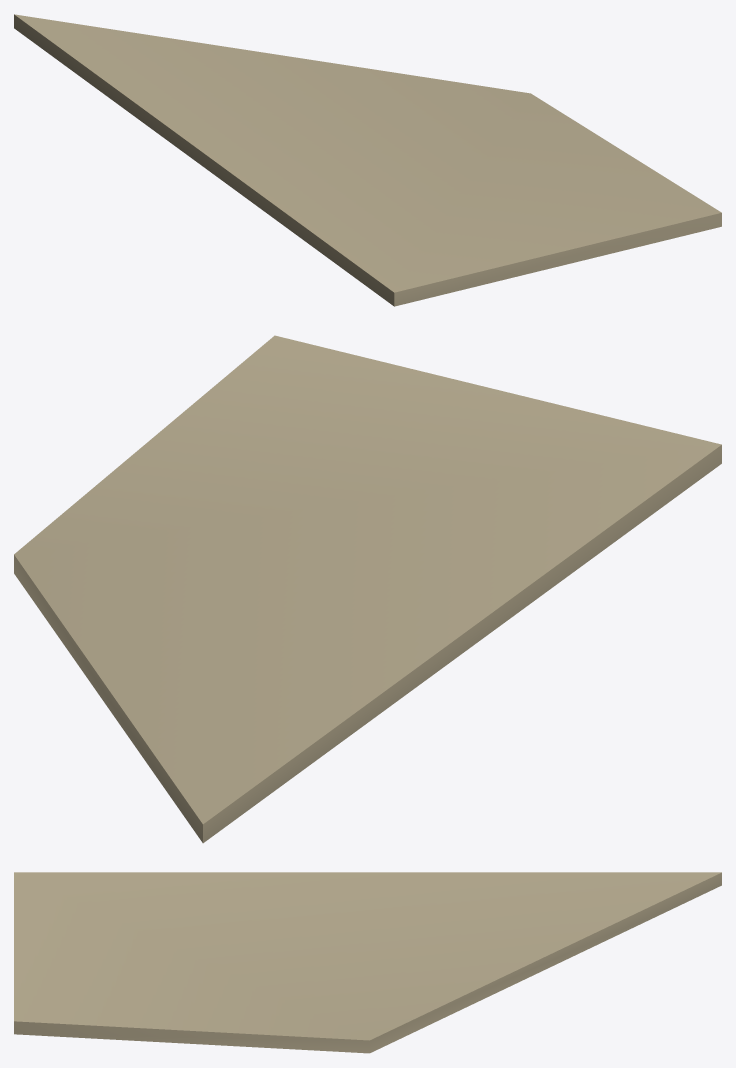
The model's file is breach_wedge_c.glb.
The picture shows the model from 3 angles, top to bottom: view 1: azimuth 30°, elevation 25°; view 2: azimuth 150°, elevation 25°; view 3: azimuth 270°, elevation 25°; orthographic projection. The views are drawn at different scales.
Visible parts, largest first — view 1: WedgeC; view 2: WedgeC; view 3: WedgeC.
Part boxes in pixels (bbox=[...]): WedgeC: bbox=[14, 14, 721, 306]; WedgeC: bbox=[14, 335, 721, 843]; WedgeC: bbox=[14, 872, 721, 1053].
Size of the model in its own units: 2.95 by 0.297 by 5.93.
